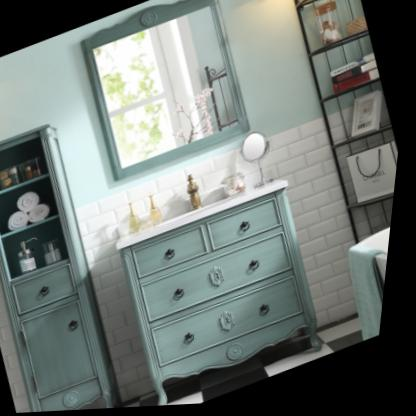Cupboard: (0, 125, 131, 413)
